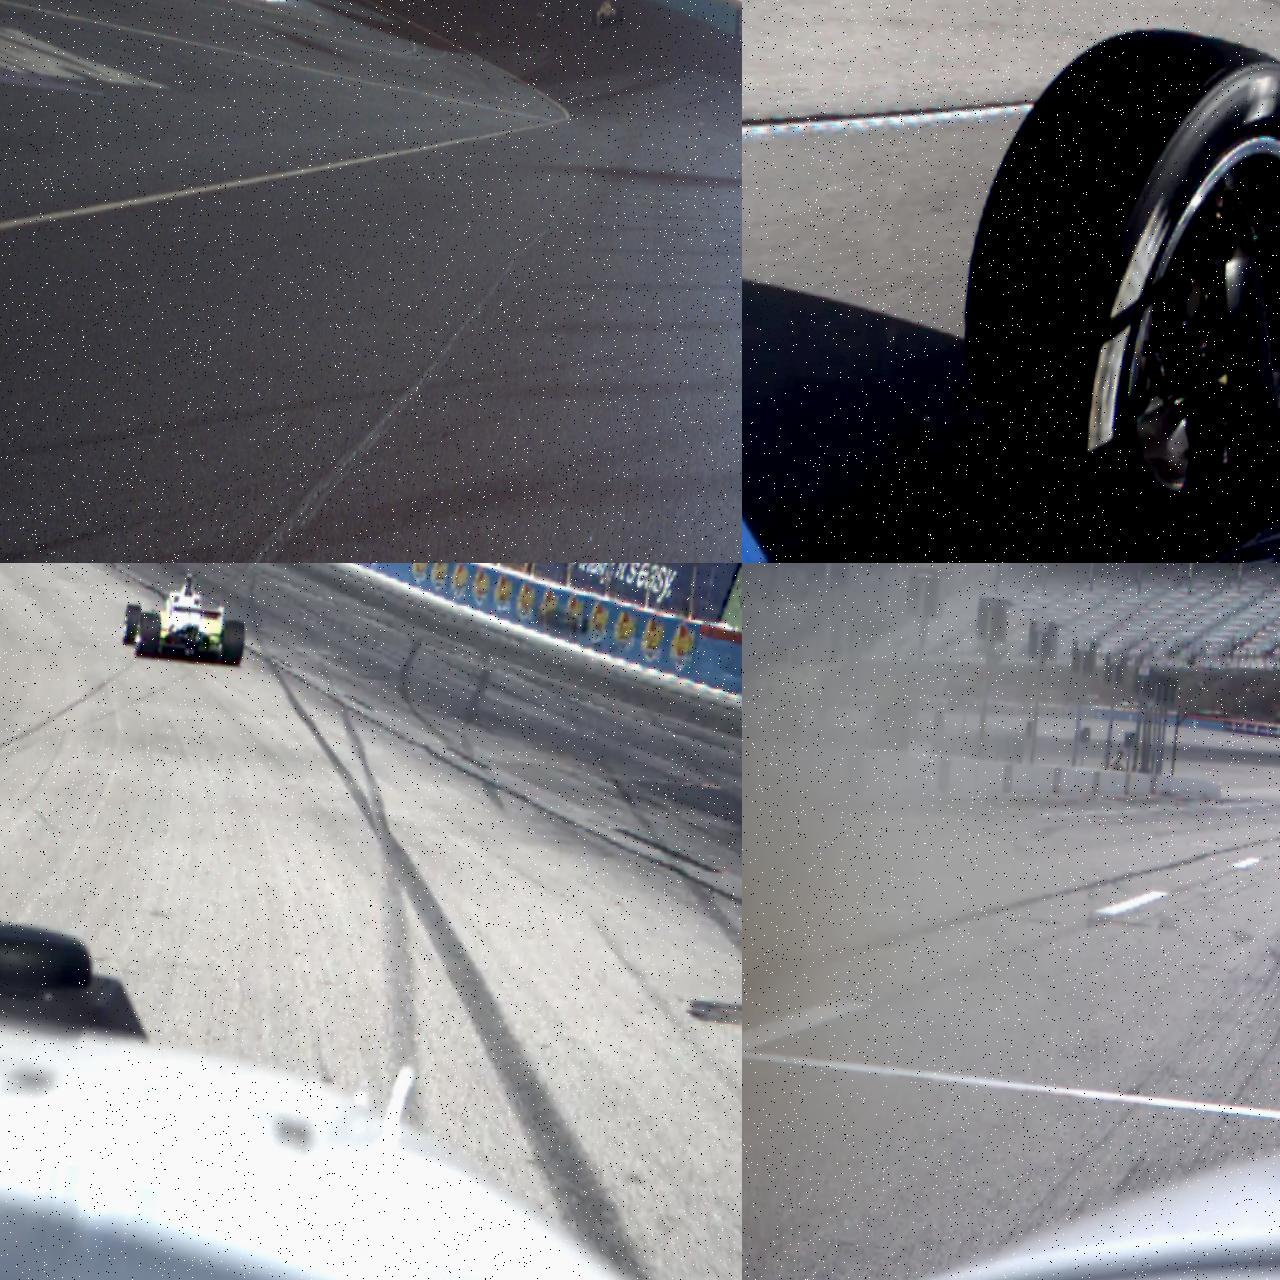AV: (121, 566, 252, 669), (588, 0, 624, 30)
Wheel: (942, 11, 1280, 559), (219, 619, 247, 668), (135, 612, 162, 659), (122, 604, 142, 647), (598, 14, 605, 28), (588, 9, 595, 23), (617, 7, 622, 22)
